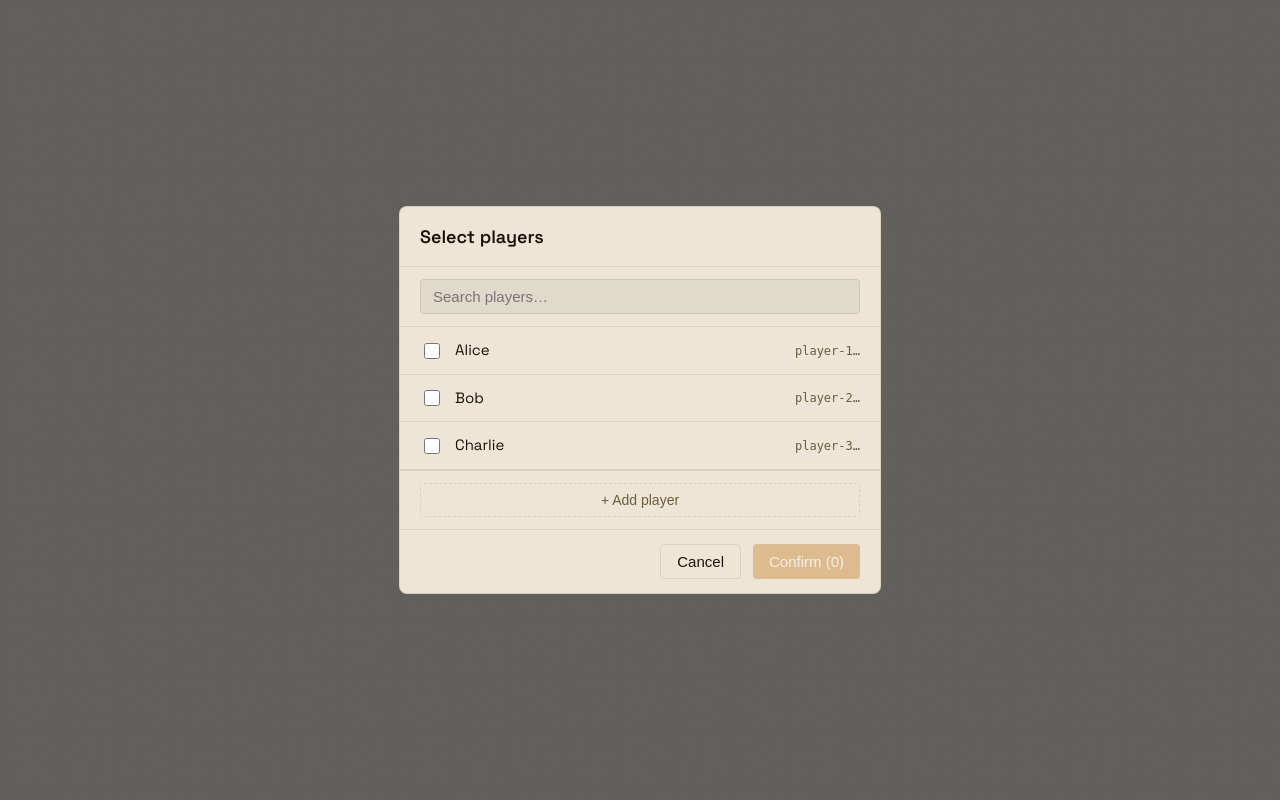
it: PlayerSelectModal › clicking "+ Add player" reveals the inline form
Click the button "+ Add player": click(640, 500) left=420, top=483, right=860, bottom=517
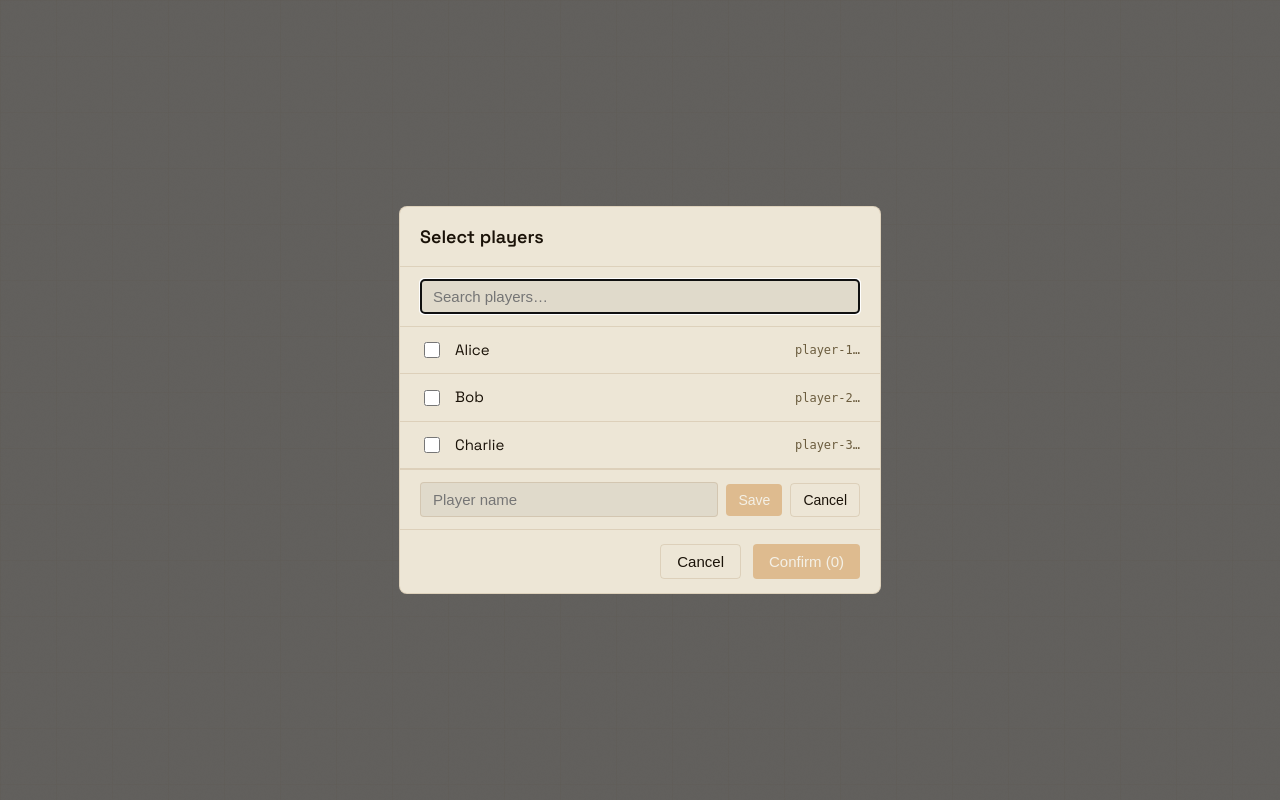
Result: the field named "New player name" is shown at left=420, top=482, right=718, bottom=517
Result: the button "Save" is shown at left=726, top=484, right=782, bottom=516
